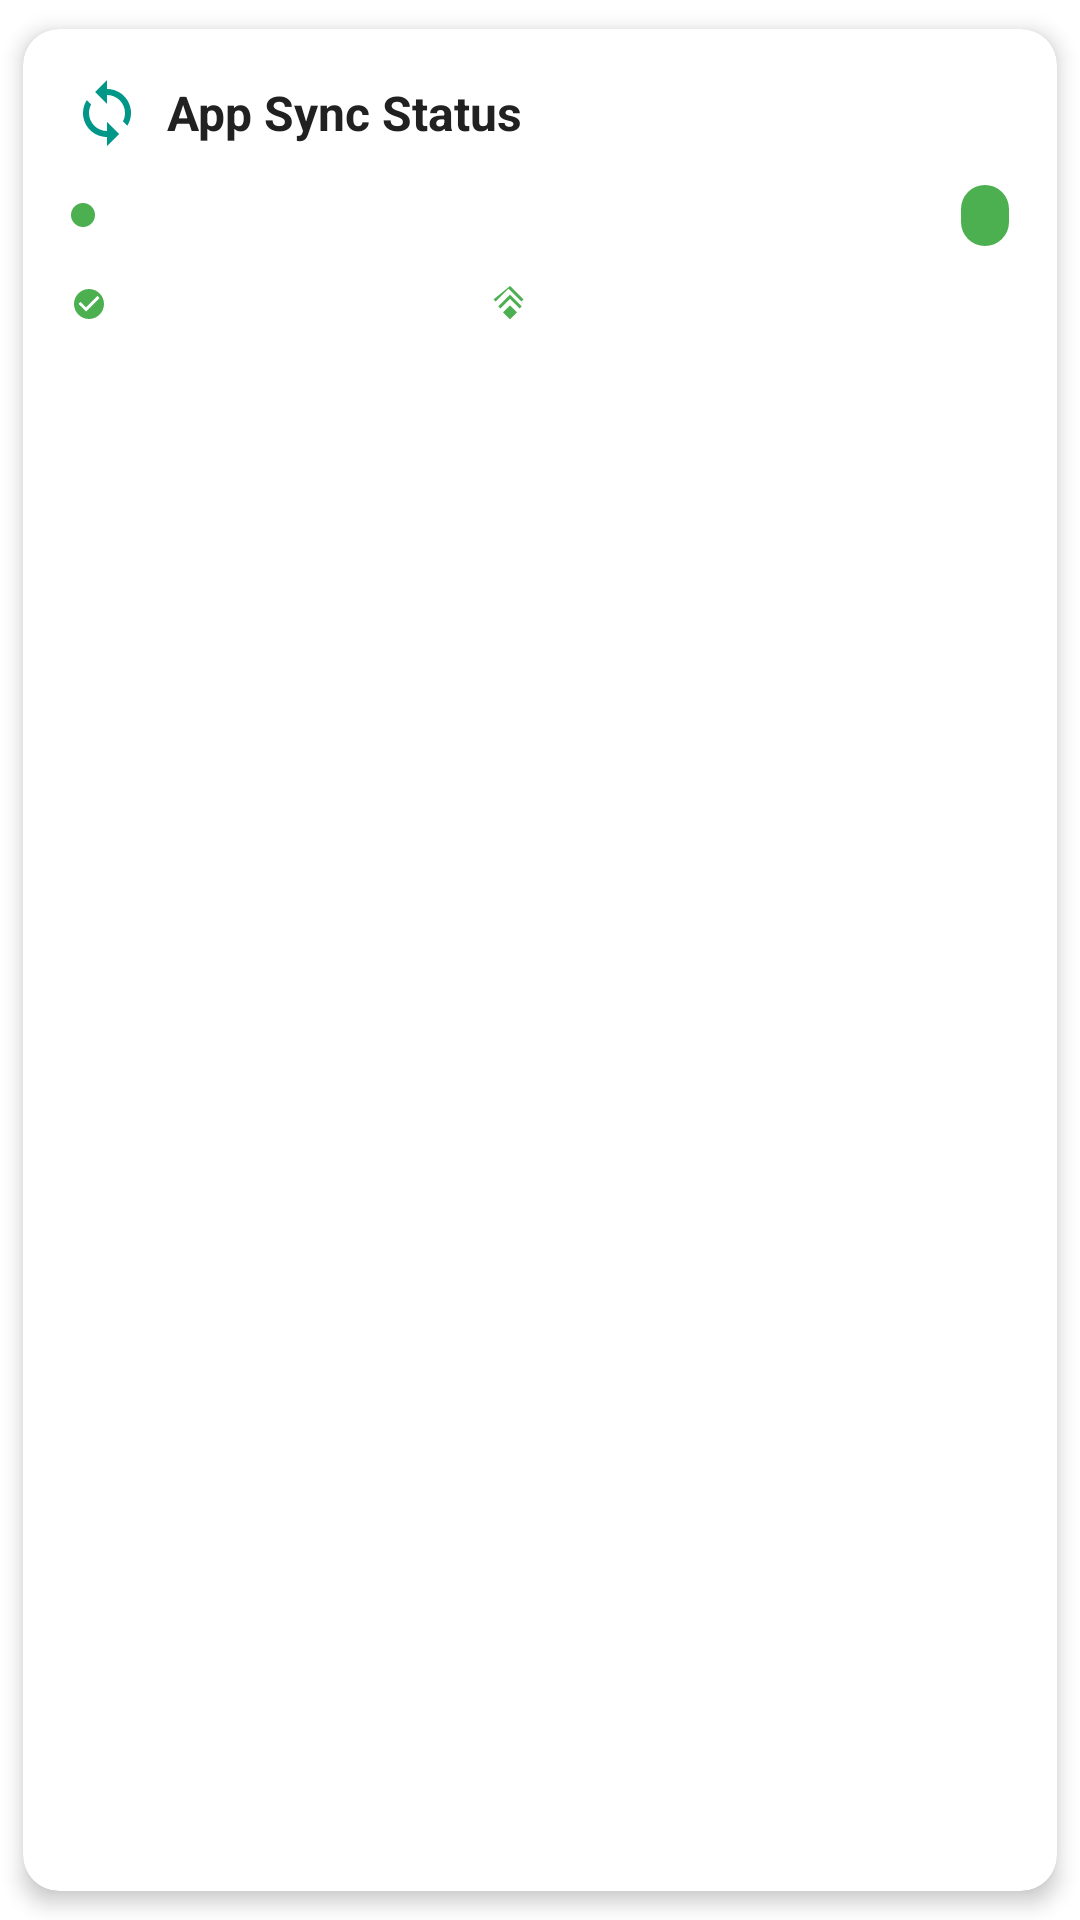

Named icons in this screenshot (1080 × 1920) and their centers, (x=x, y=y):
check circle: (x=89, y=304)
